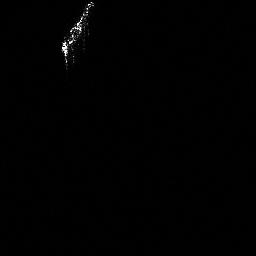ship: (58, 1, 96, 68)
